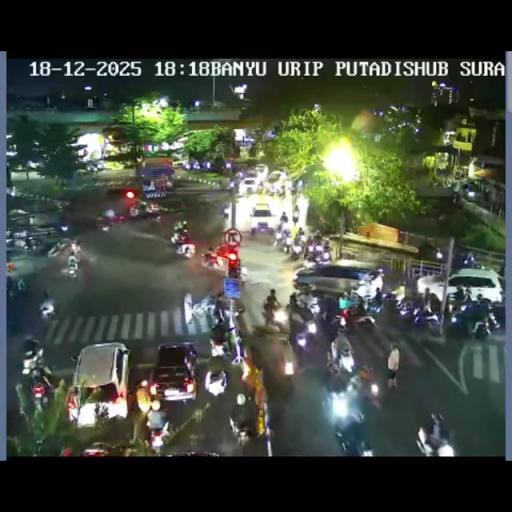Car: (68, 342, 131, 428), (418, 267, 502, 309), (294, 263, 382, 301), (148, 342, 199, 404), (255, 330, 298, 381), (140, 158, 174, 192), (249, 203, 275, 233), (152, 197, 186, 217), (80, 441, 116, 455), (239, 178, 261, 196), (253, 163, 269, 178)
Motorcycle: (284, 290, 386, 448), (332, 404, 370, 454), (447, 300, 496, 338), (393, 293, 439, 328), (415, 423, 455, 456), (27, 368, 53, 410), (355, 366, 382, 406), (292, 311, 318, 350), (204, 355, 230, 393), (229, 410, 254, 446), (225, 316, 244, 363), (186, 294, 218, 320), (215, 291, 244, 319), (292, 289, 322, 316), (325, 364, 347, 398), (261, 302, 285, 332), (21, 346, 44, 374), (329, 313, 349, 344), (147, 422, 169, 450), (386, 342, 400, 386), (306, 242, 332, 264), (172, 234, 195, 258), (272, 230, 294, 254), (6, 274, 26, 300), (389, 280, 406, 306), (202, 250, 224, 270), (209, 334, 227, 358), (39, 295, 56, 319), (95, 213, 115, 232), (353, 312, 376, 328), (25, 236, 44, 253), (46, 241, 66, 257), (449, 284, 465, 302), (289, 239, 303, 259), (358, 439, 374, 456), (10, 234, 28, 248), (66, 258, 78, 278), (174, 220, 188, 235), (69, 240, 81, 257), (237, 265, 248, 282), (226, 178, 238, 191), (278, 220, 288, 234), (284, 176, 294, 190), (138, 201, 148, 215), (163, 174, 172, 189), (465, 254, 476, 266), (266, 184, 276, 197), (305, 234, 313, 250), (129, 204, 138, 218), (58, 220, 68, 232), (222, 205, 230, 219), (86, 162, 96, 172), (292, 210, 299, 224), (278, 186, 286, 198), (96, 160, 105, 170), (42, 289, 50, 300), (297, 226, 304, 238)
